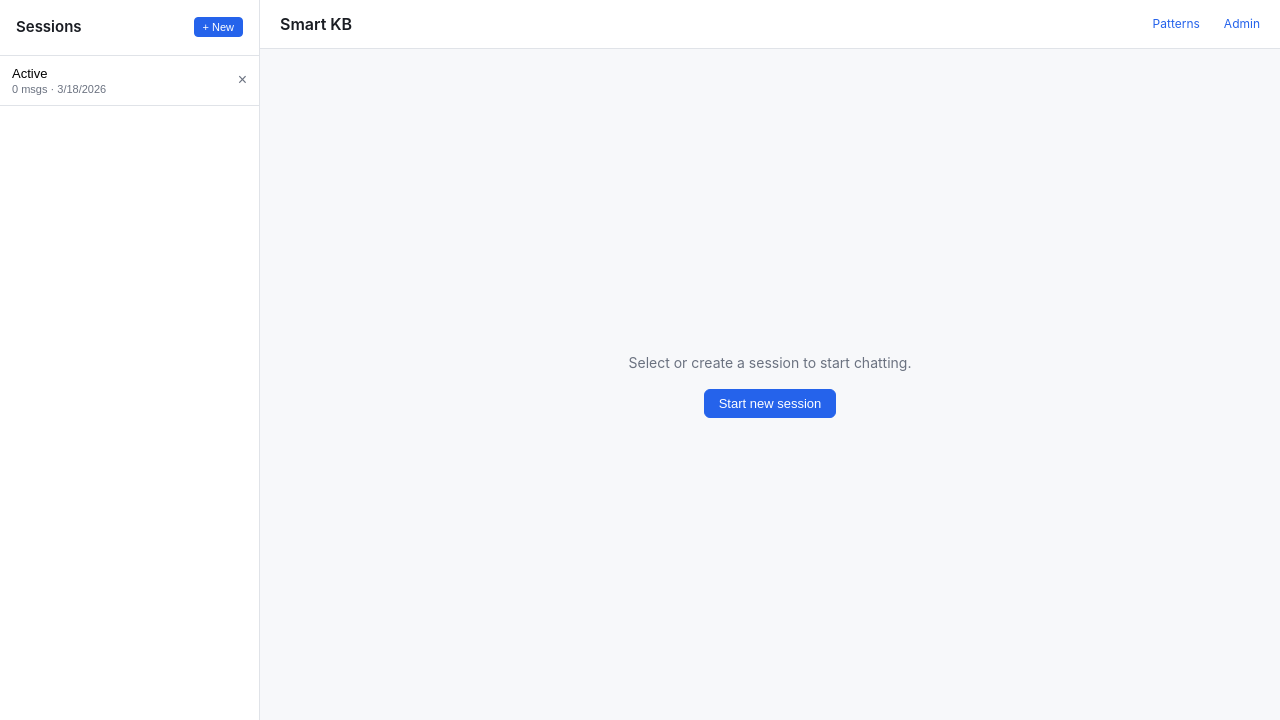
Test case: ChatPage › shows error banner when sendMessage fails
Step 1. Click the text "Active" → (30, 73), box [12,66,47,80]
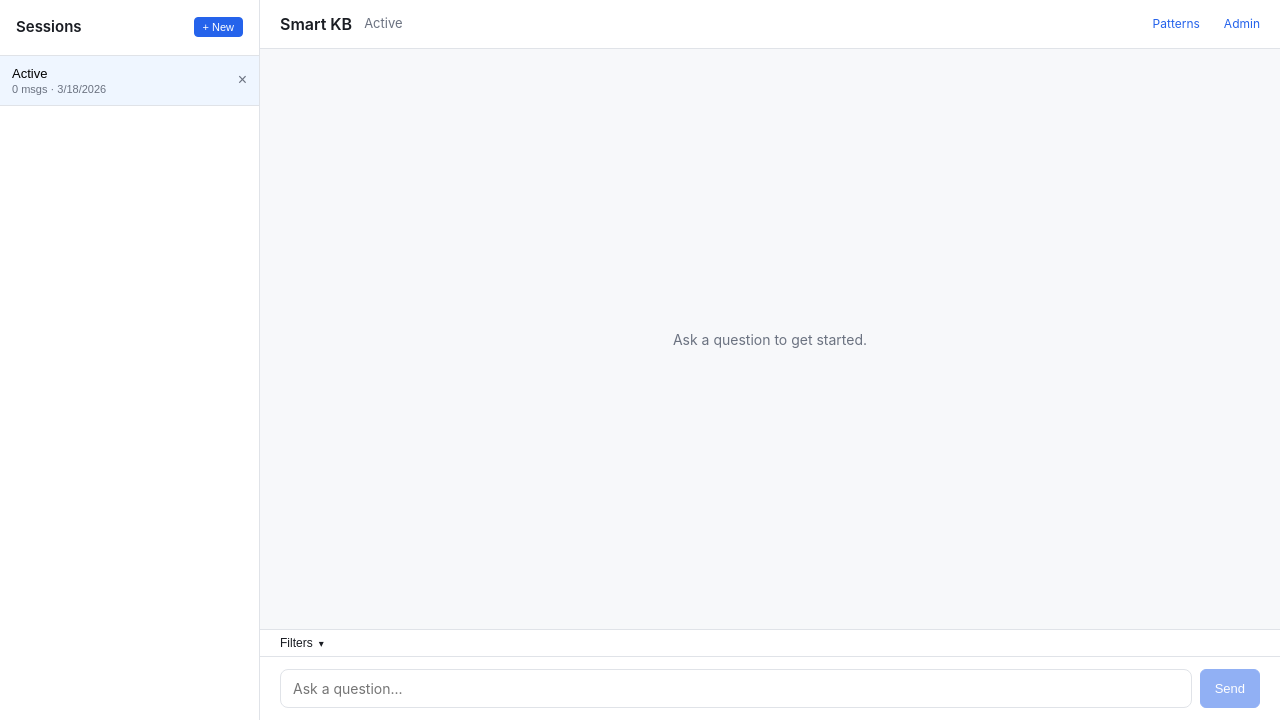
Step 2. Type "test" into the text box with placeholder "Ask a question..." → (736, 688), box [280,669,1192,708]
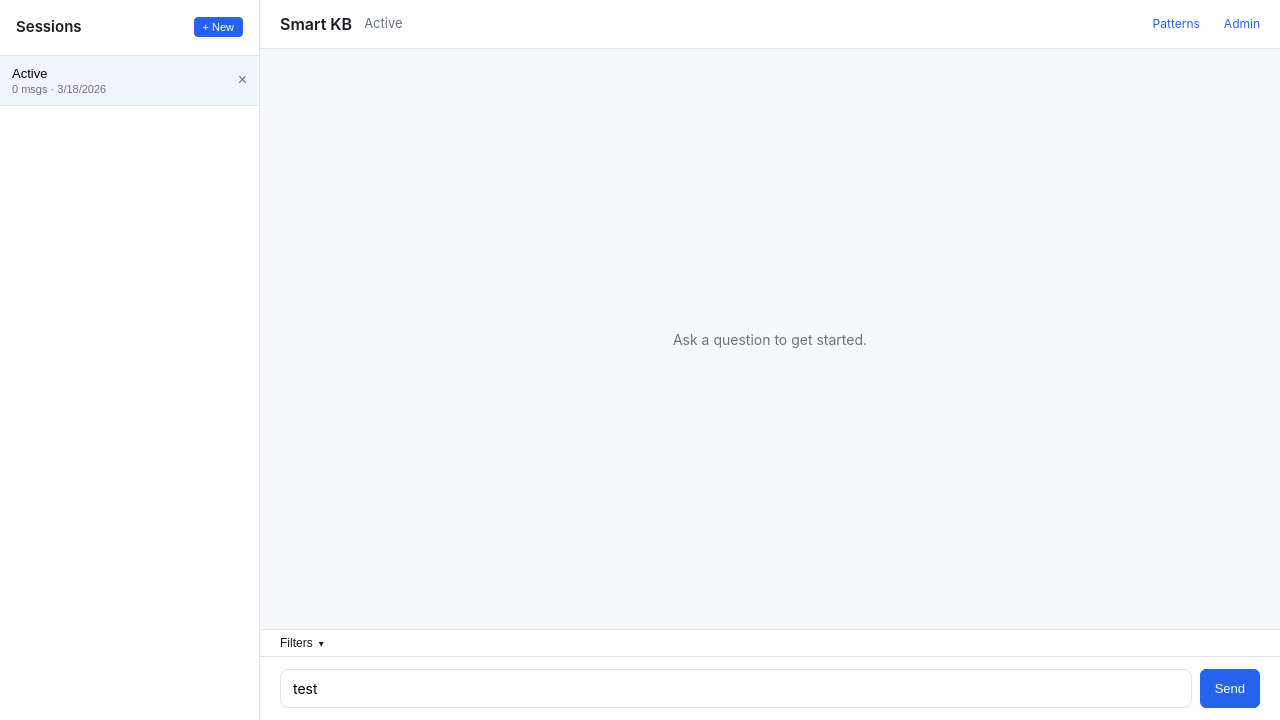
Step 3. Submit the form with placeholder "Ask a question...", box [260,656,1279,719]
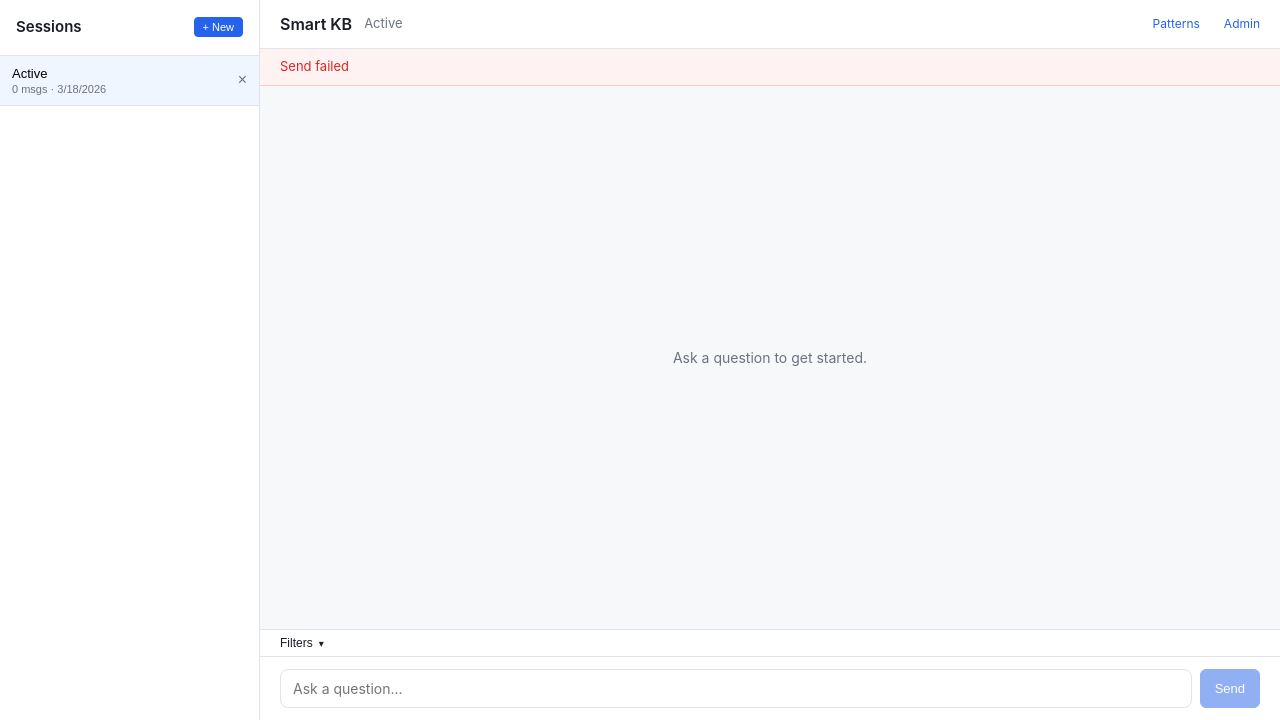
Check: the text "Send failed" is shown, box [260,49,1279,86]
